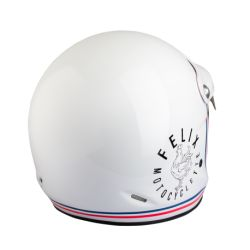with_helmet: (21, 27, 221, 221)
